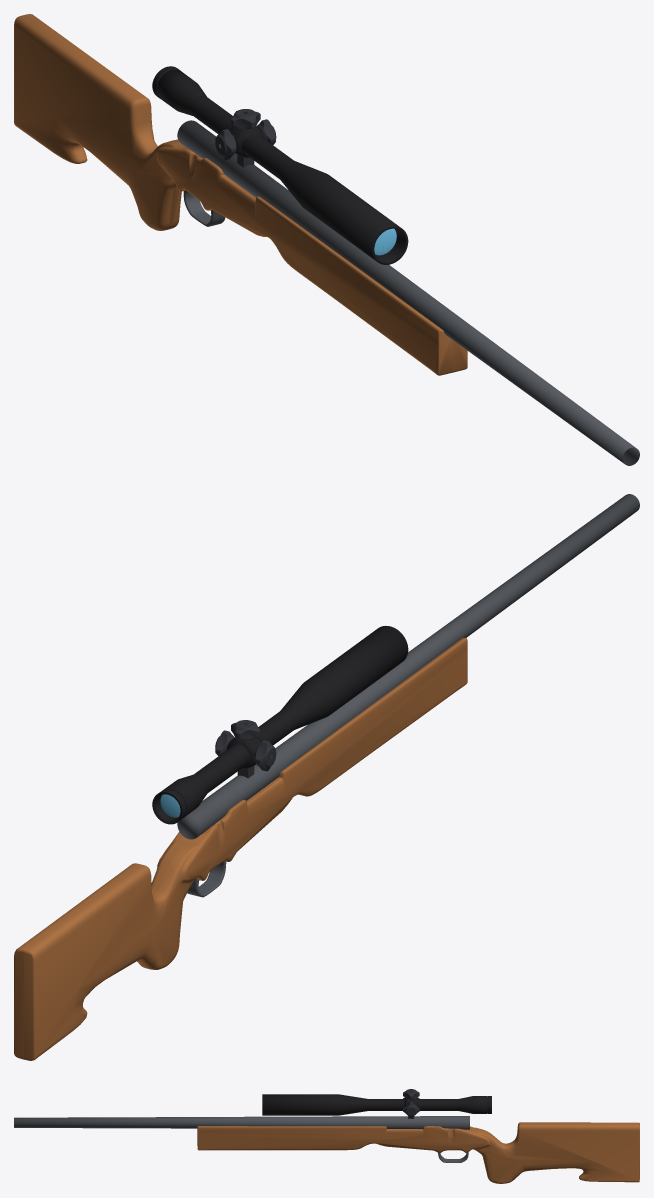
Rendered from rifle.glb.
The picture shows the model from 3 angles, top to bottom: view 1: azimuth 30°, elevation 25°; view 2: azimuth 150°, elevation 25°; view 3: azimuth 270°, elevation 25°; orthographic projection. The views are drawn at different scales.
Parts seen in each view (by area): view 1: stock, barrel, binocular, Trigger; view 2: stock, barrel, binocular; view 3: stock, barrel, binocular, binocular screw L.
Boxes of the visible parts, x1,y1,x2,y2 form: stock: (14,14,467,375); barrel: (177,120,639,465); binocular: (152,66,408,264); Trigger: (183,190,225,226); stock: (14,638,467,1060); barrel: (177,494,639,839); binocular: (152,625,408,824); stock: (197,1122,639,1183); barrel: (14,1116,469,1129); binocular: (262,1094,491,1115); binocular screw L: (403,1102,419,1117).
Size of the model in its own units: 0.0486 by 0.16 by 0.9946.
